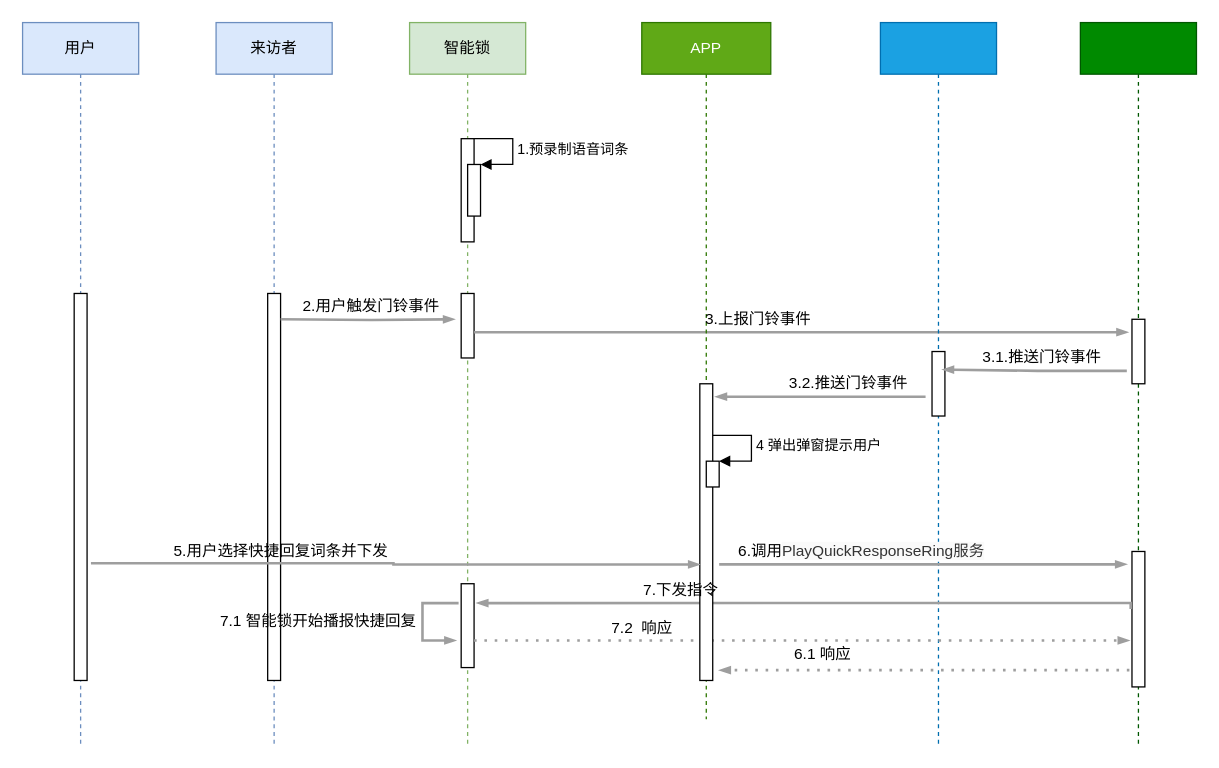
Some shapes in this 1219 by 768 pixel diagram are drawn without their labels. The centre of each missing label's shape, as x and y in pixels:
"好太太云平台" belongs at (938,383).
"飞燕云平台" belongs at (1137,383).
